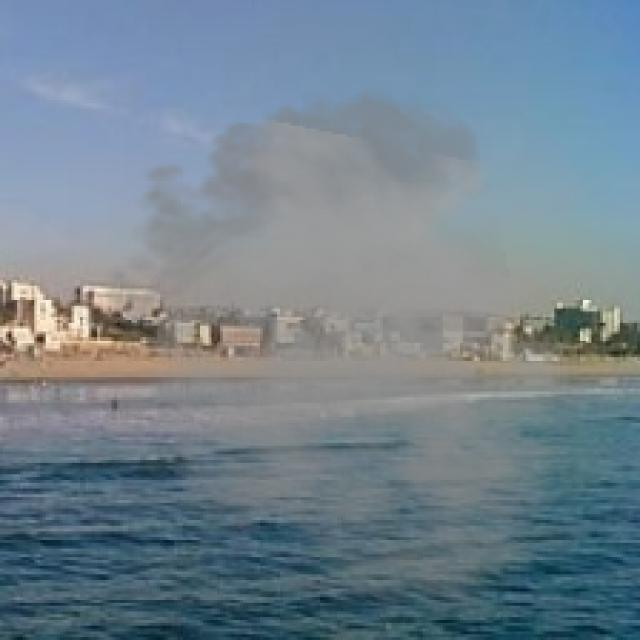smoke: (83, 80, 620, 617)
